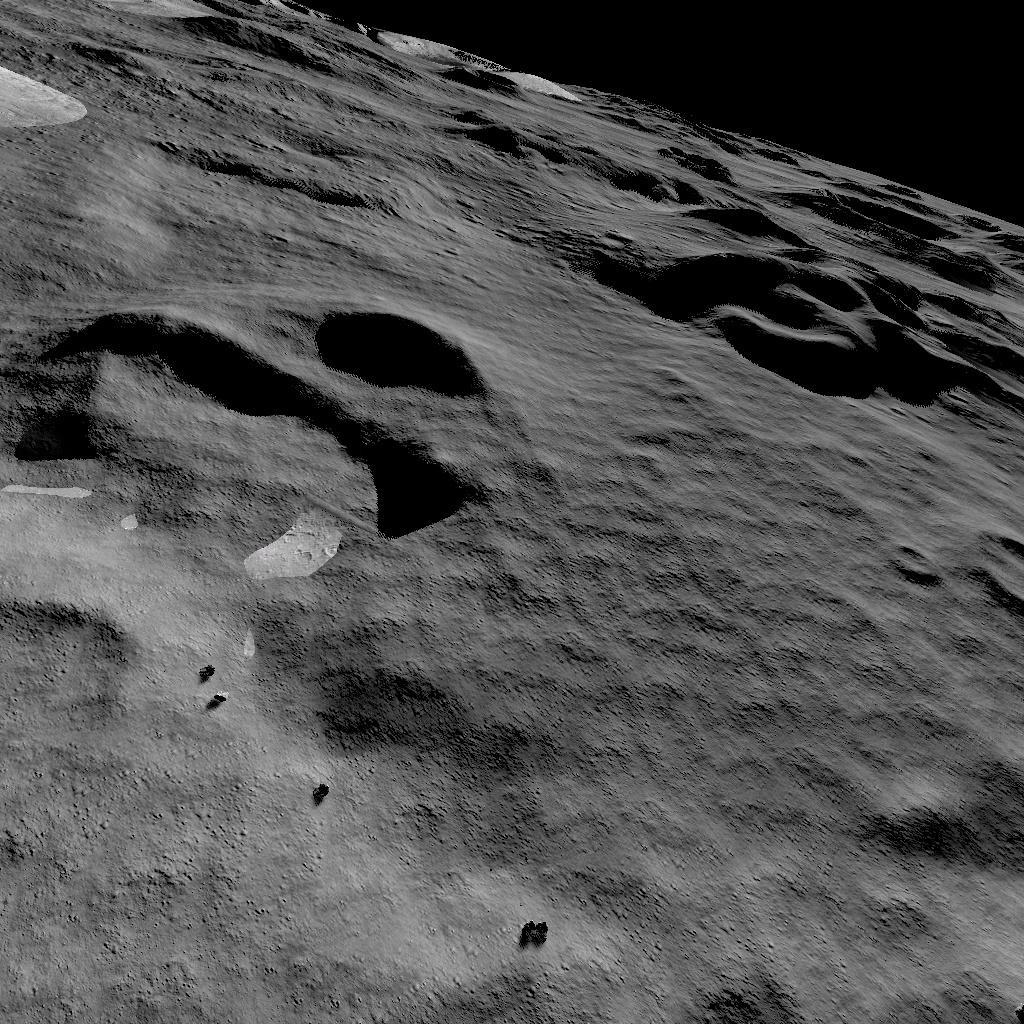Boulders: (0, 72, 135, 194)
Crater: (519, 120, 1024, 441), (1, 292, 485, 567), (0, 592, 152, 842), (877, 538, 1024, 624)
Plan surface: (573, 460, 856, 1022), (0, 882, 506, 1024)
